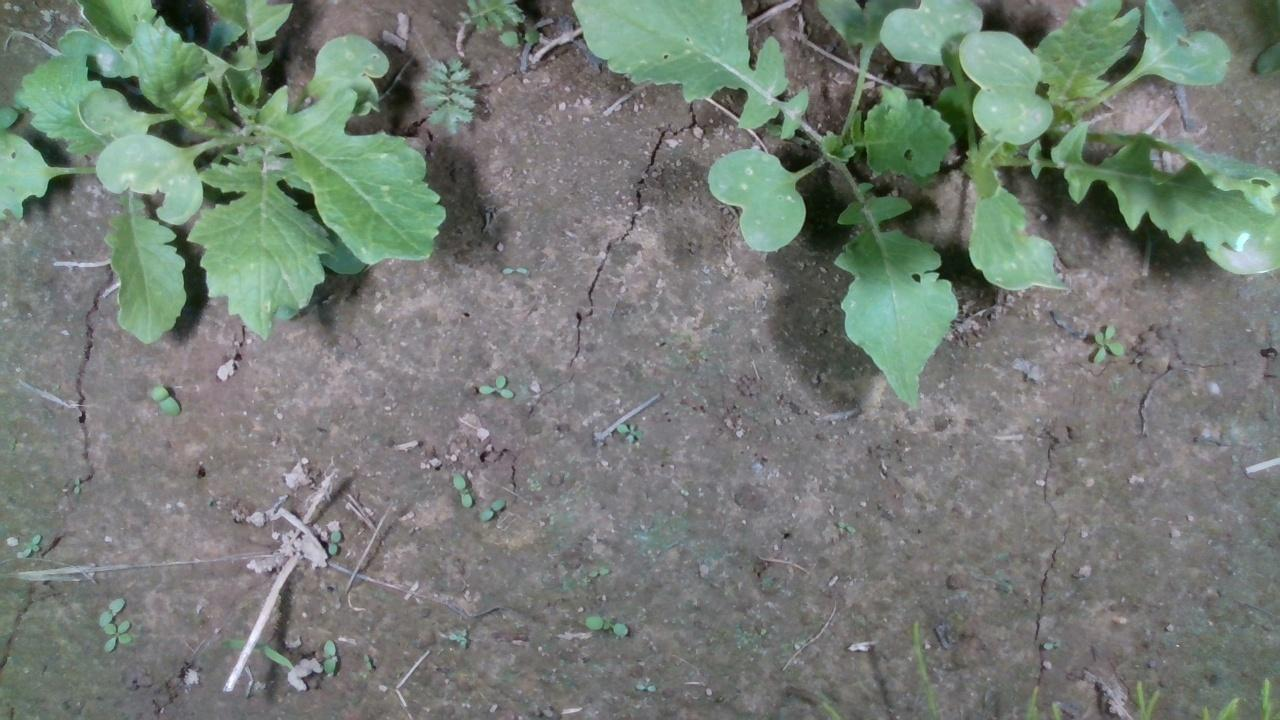weed: (1092, 320, 1124, 364), (149, 384, 180, 418), (584, 613, 629, 636), (476, 373, 514, 399), (450, 473, 472, 508), (614, 419, 643, 444), (479, 497, 505, 520), (20, 532, 41, 557), (321, 638, 335, 675), (325, 529, 340, 556), (584, 565, 610, 577), (361, 652, 373, 671), (1040, 638, 1061, 648), (70, 475, 80, 495), (633, 682, 655, 691)
